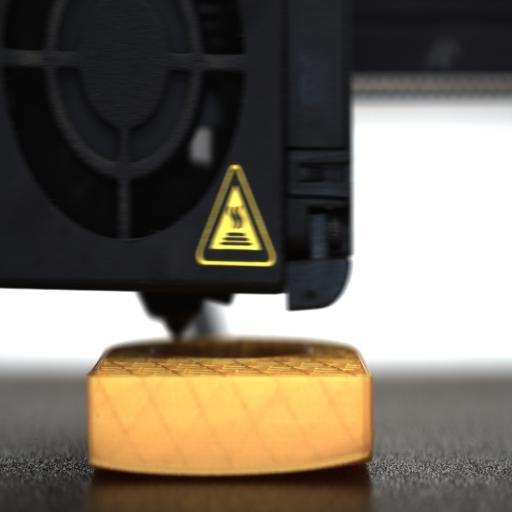warp: (324, 446, 374, 474)
